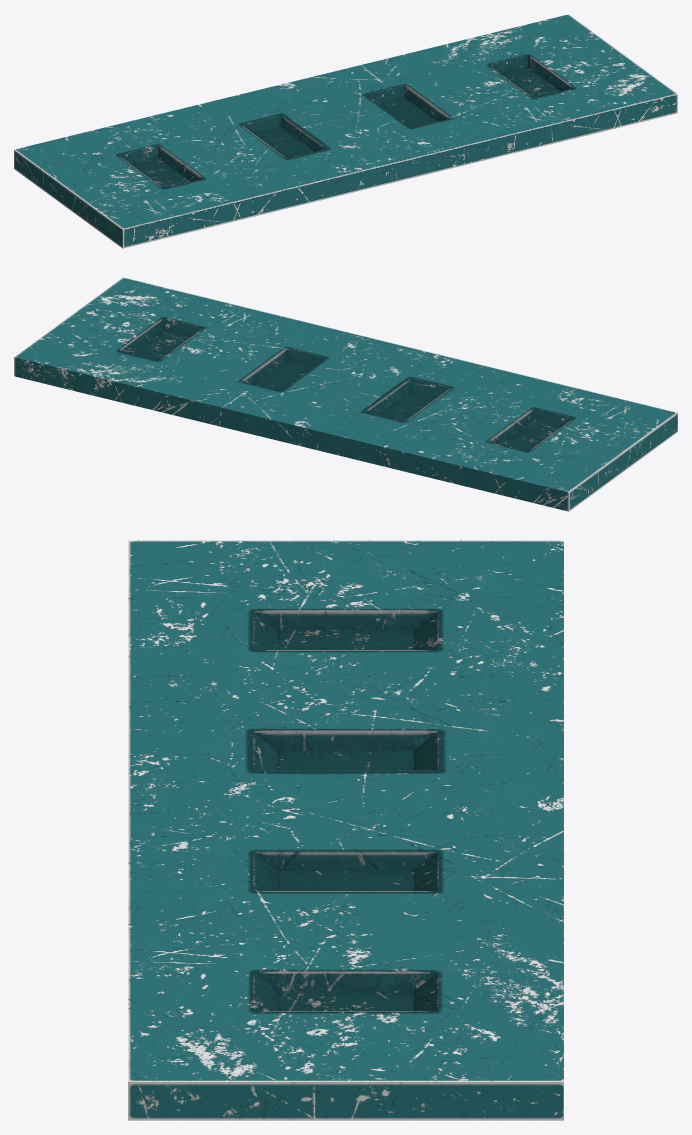
The model's file is Gate_bottom.fbx.
3 renders of one model, top to bottom at view 1: azimuth 30°, elevation 25°; view 2: azimuth 150°, elevation 25°; view 3: azimuth 270°, elevation 25°, orthographic. The views are drawn at different scales.
Parts seen in each view (by area): view 1: Cube; view 2: Cube; view 3: Cube.
Boxes of the visible parts, box(x1,y1,x2,y2) form: Cube: box(14, 14, 677, 248); Cube: box(14, 277, 677, 511); Cube: box(128, 540, 563, 1120).
Size of the model in its own units: 600 by 20 by 204.
